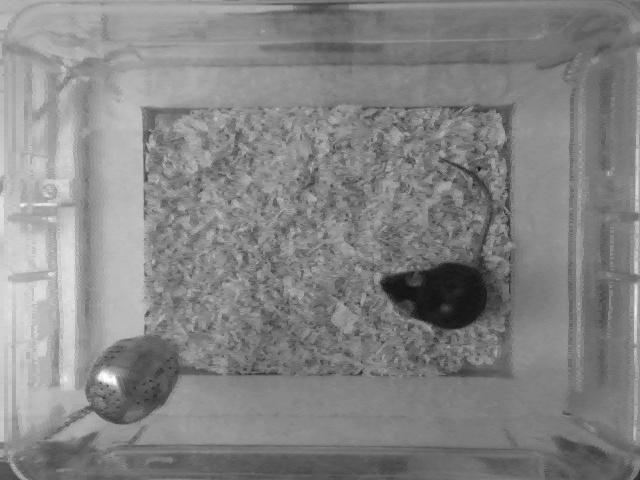mice: (382, 153, 497, 333)
